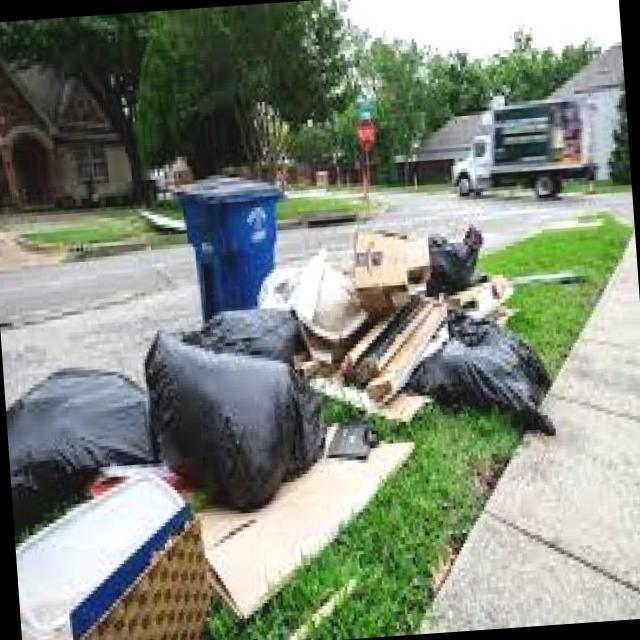high trash: (6, 229, 553, 640)
